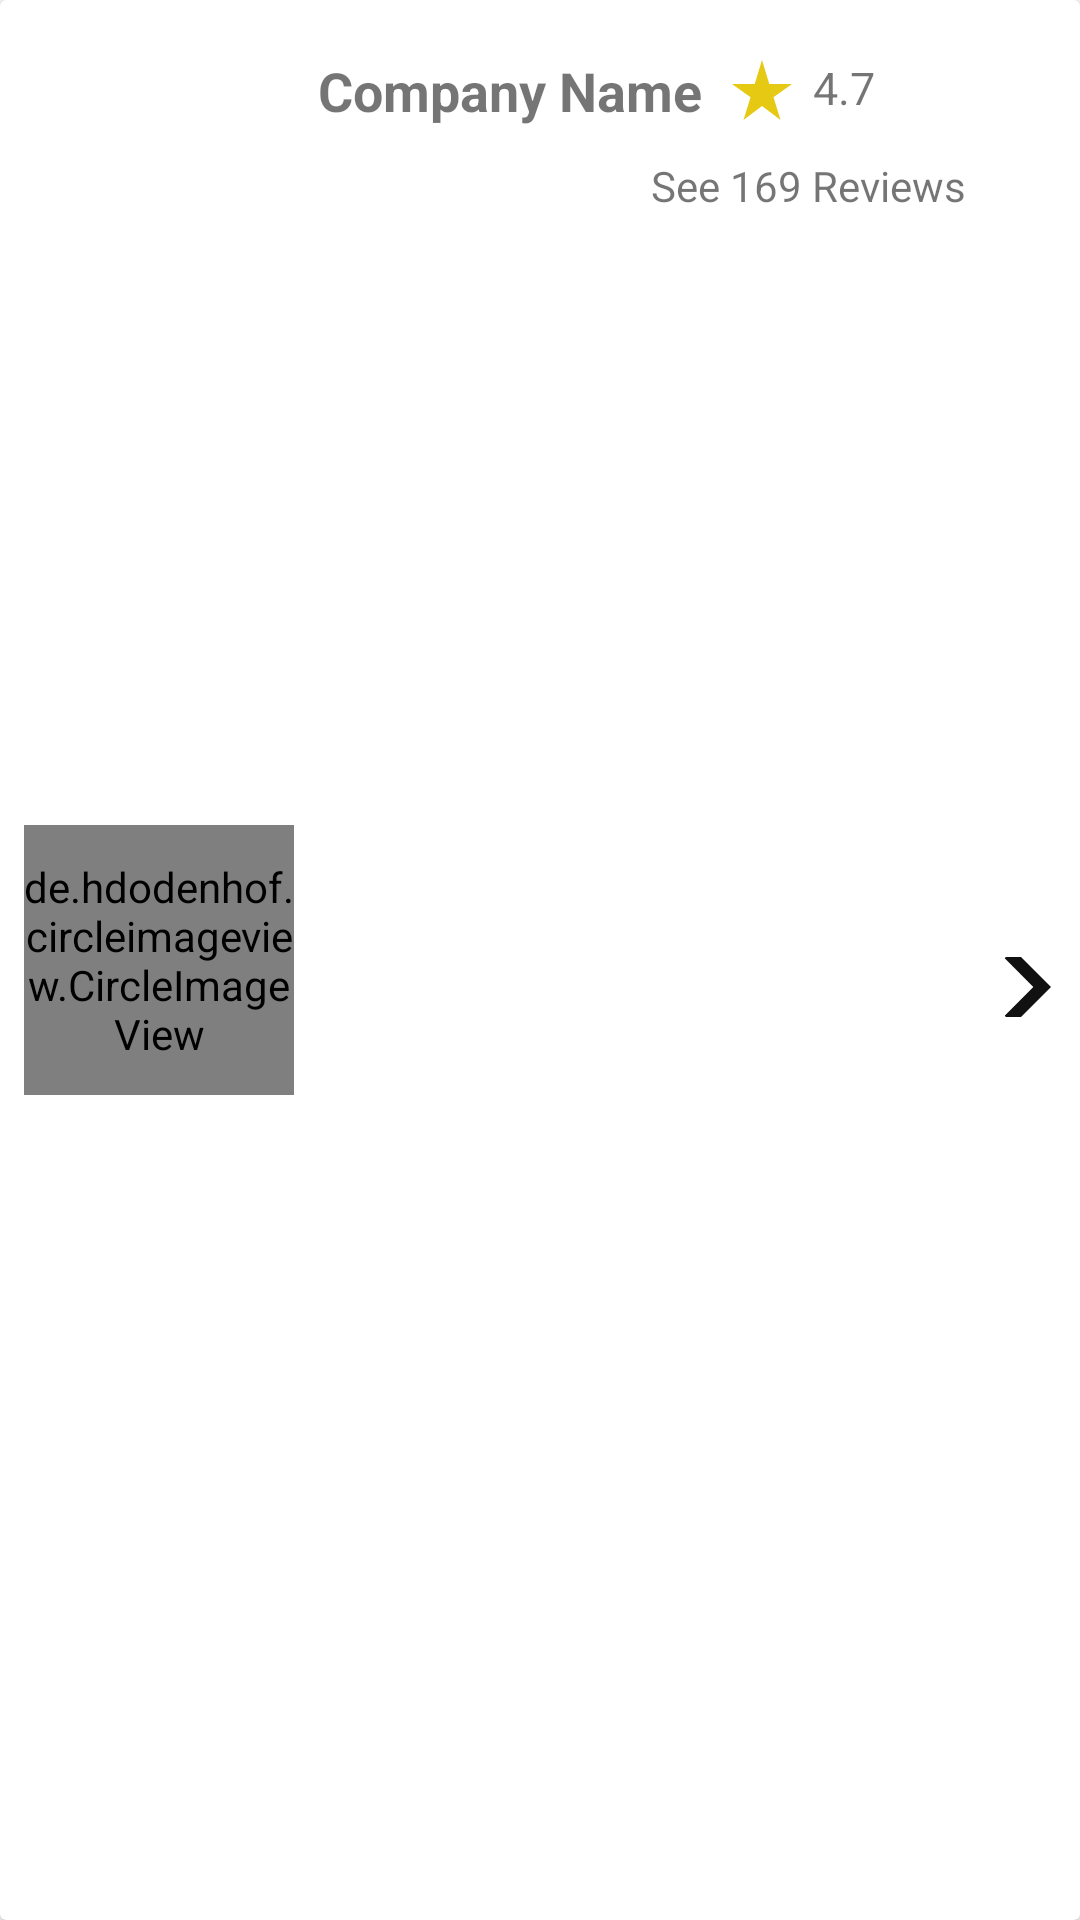

Icon click points for this 1080*1920 phone screenshot, format point (x, y):
keyboard arrow right: point (1028, 987)
star rate: point (762, 90)
